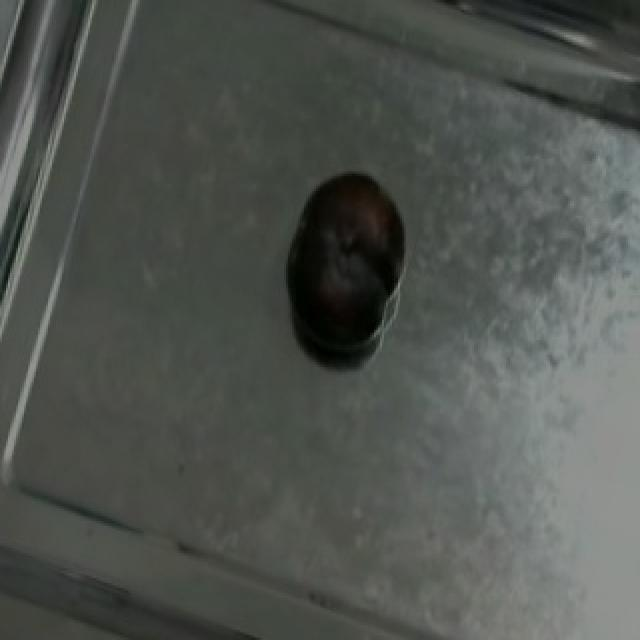Fruit: (272, 153, 422, 360)
